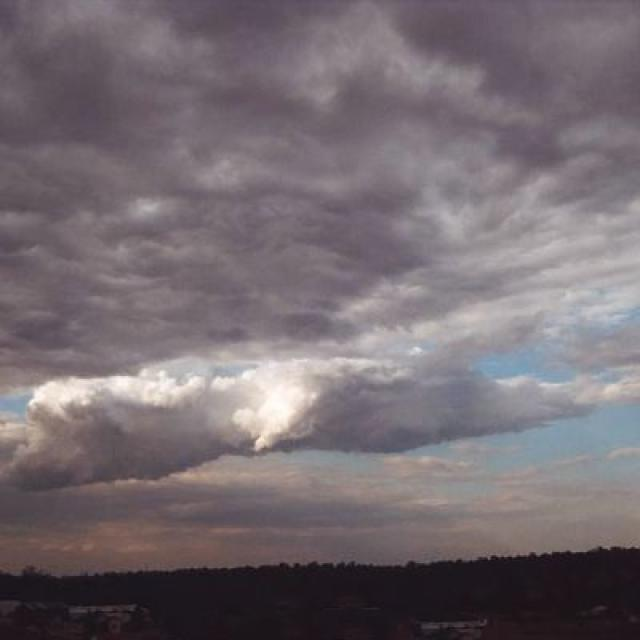Sc: (3, 41, 640, 383)
